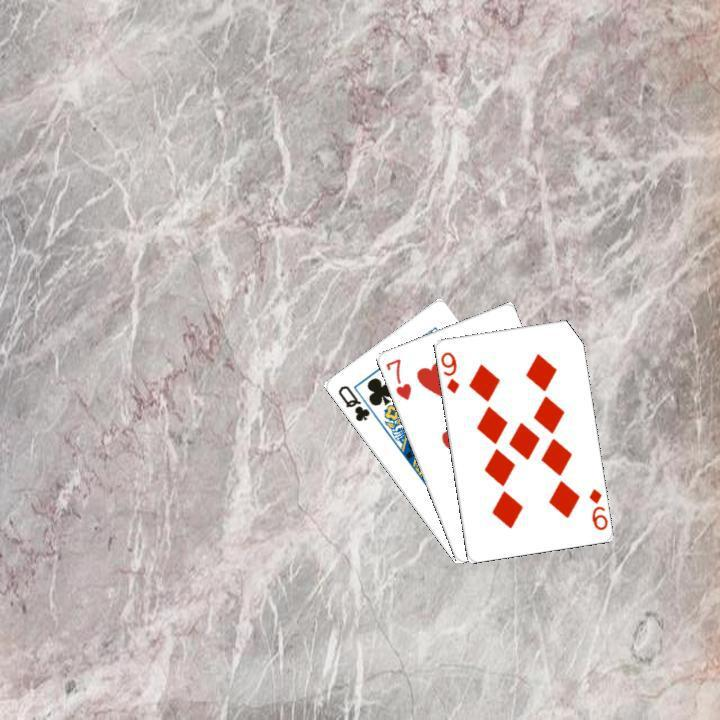7: (381, 354, 413, 402)
9: (436, 347, 461, 395), (584, 484, 608, 532)
Q: (333, 381, 372, 423)
